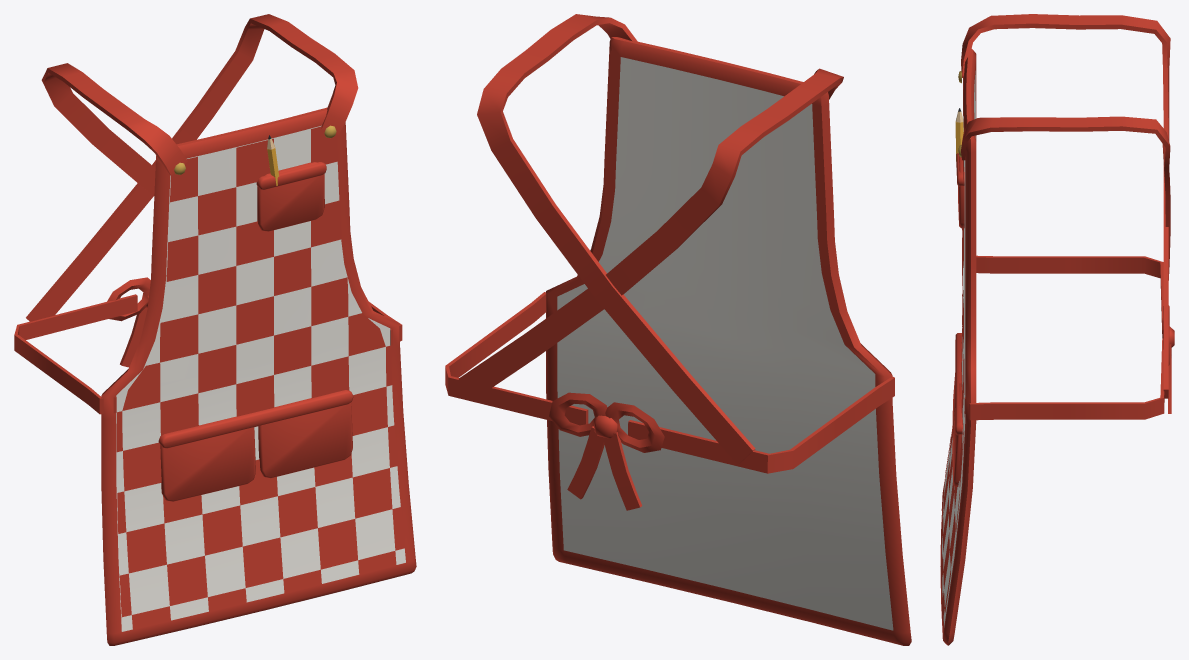
Rendered from Cosmetic_Apron_Checkered.fbx.
The picture shows the model from 3 angles, left to right: view 1: azimuth 30°, elevation 25°; view 2: azimuth 150°, elevation 25°; view 3: azimuth 270°, elevation 25°; orthographic projection. The views are drawn at different scales.
Visible parts, largest first — view 1: Trim, Apron; view 2: Apron, Trim; view 3: Trim, Apron.
Part boxes in pixels (left/top/right/bottom): Trim: left=14, top=14, right=416, bottom=645; Apron: left=116, top=125, right=405, bottom=631; Apron: left=557, top=57, right=893, bottom=630; Trim: left=445, top=14, right=911, bottom=645; Trim: left=940, top=14, right=1174, bottom=645; Apron: left=942, top=71, right=975, bottom=627.
Bounding box in the file's own units: 205 × 315 × 134.
